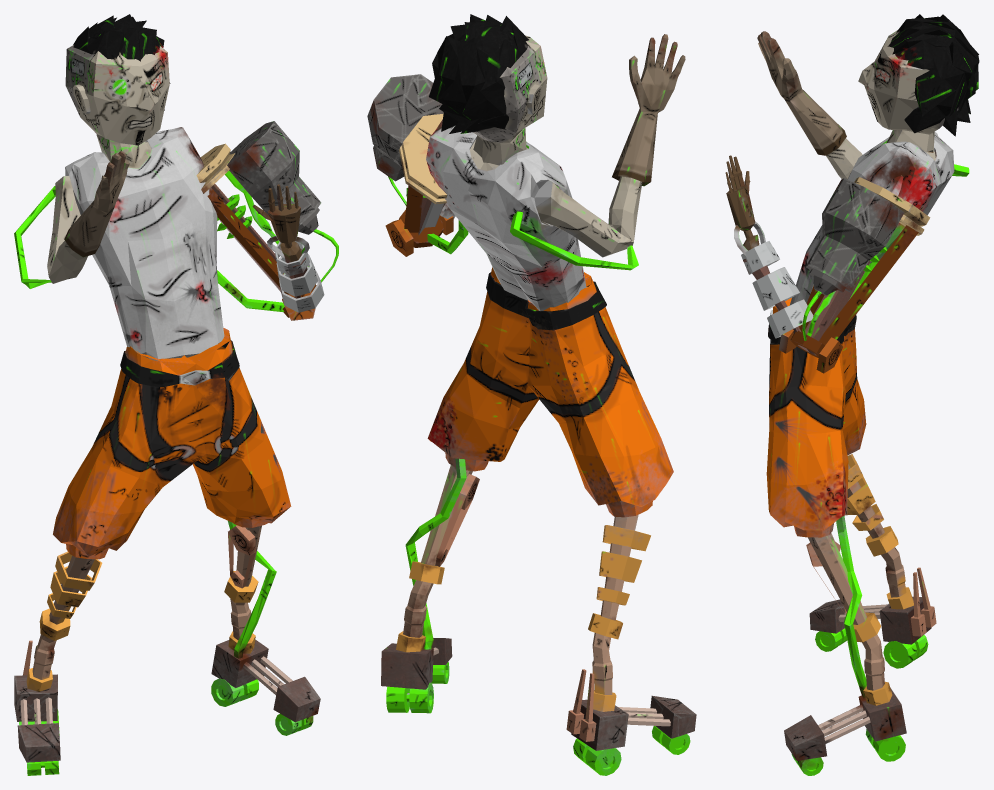
The model's file is CyborgFINALAnimation_000006.obj.
The picture shows the model from 3 angles, left to right: view 1: azimuth 30°, elevation 25°; view 2: azimuth 150°, elevation 25°; view 3: azimuth 270°, elevation 25°; orthographic projection. The views are drawn at different scales.
Parts seen in each view (by area): view 1: CyborgMesh_Cube.002; view 2: CyborgMesh_Cube.002; view 3: CyborgMesh_Cube.002.
Boxes of the visible parts, <box> form: CyborgMesh_Cube.002: <box>14,14,338,775</box>; CyborgMesh_Cube.002: <box>367,14,696,775</box>; CyborgMesh_Cube.002: <box>725,14,979,775</box>.
Size of the model in its own units: 4.26 by 9.32 by 3.1.
